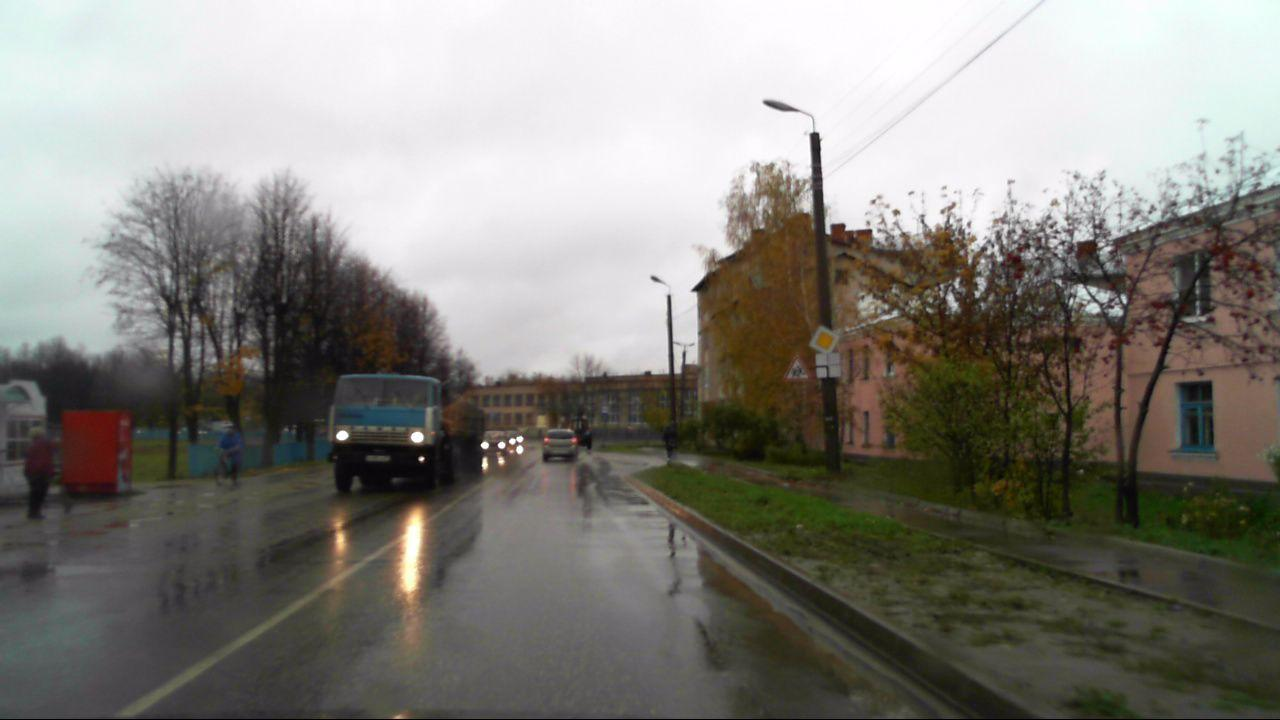1_23: (784, 354, 809, 383)
2_1: (808, 324, 839, 352)
8_13: (816, 353, 843, 380)
